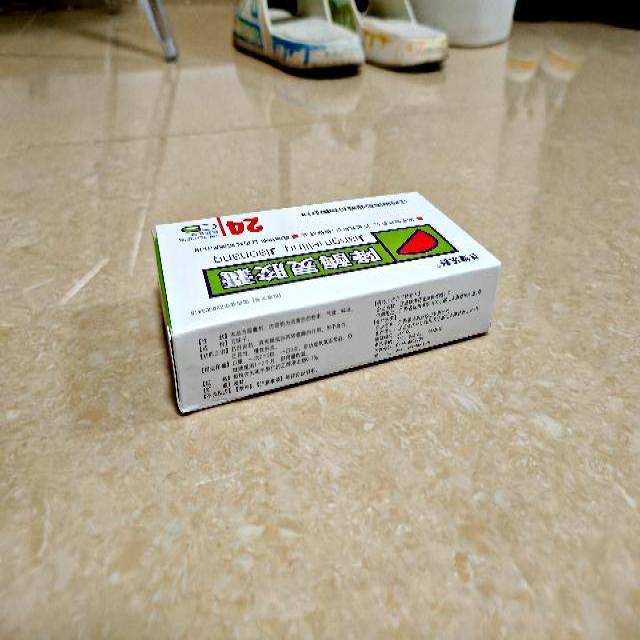box: (155, 192, 501, 419)
